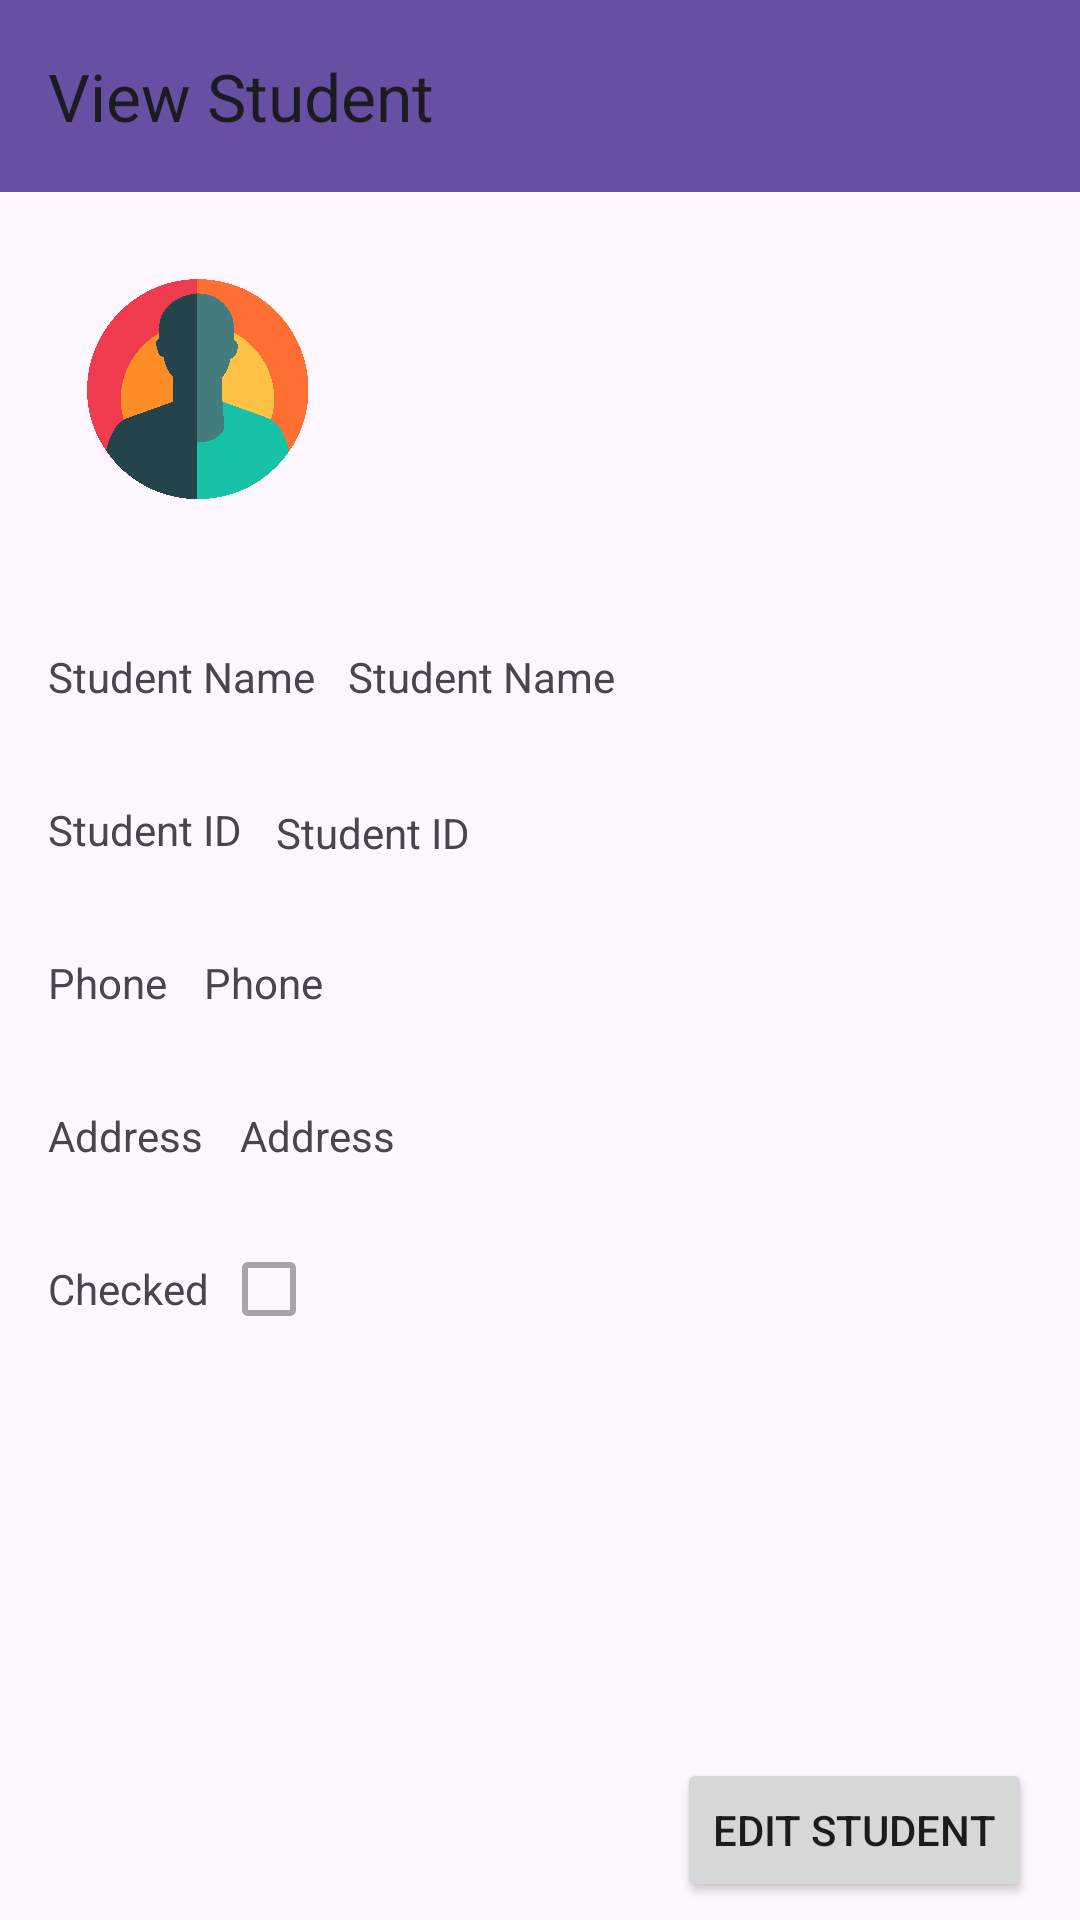

Icon bounding boxes for this 1080*1920 phone screenshot, format [x1, y1, x2, y2]:
profile: [87, 279, 308, 499]
